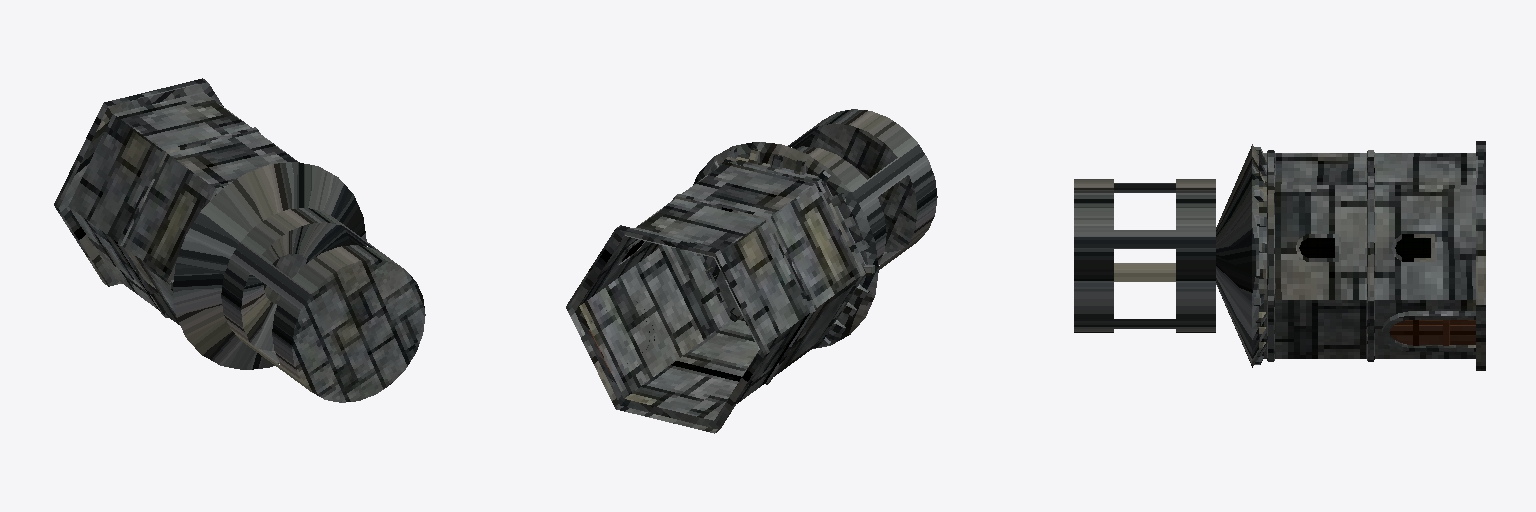
The picture shows the model from 3 angles: view 1: azimuth 30°, elevation 25°; view 2: azimuth 150°, elevation 25°; view 3: azimuth 270°, elevation 25°; orthographic projection.
Parts seen in each view (by area): view 1: Bas_Destek.015_Cube.025; view 2: Bas_Destek.015_Cube.025; view 3: Bas_Destek.015_Cube.025.
Part boxes in pixels (x1,y1,x2,y2): Bas_Destek.015_Cube.025: (54,78,425,402); Bas_Destek.015_Cube.025: (566,109,937,433); Bas_Destek.015_Cube.025: (1074,141,1485,370).
Size of the model in its own units: 0.0529 by 0.0517 by 0.0946.
1 materials, 1 textured.